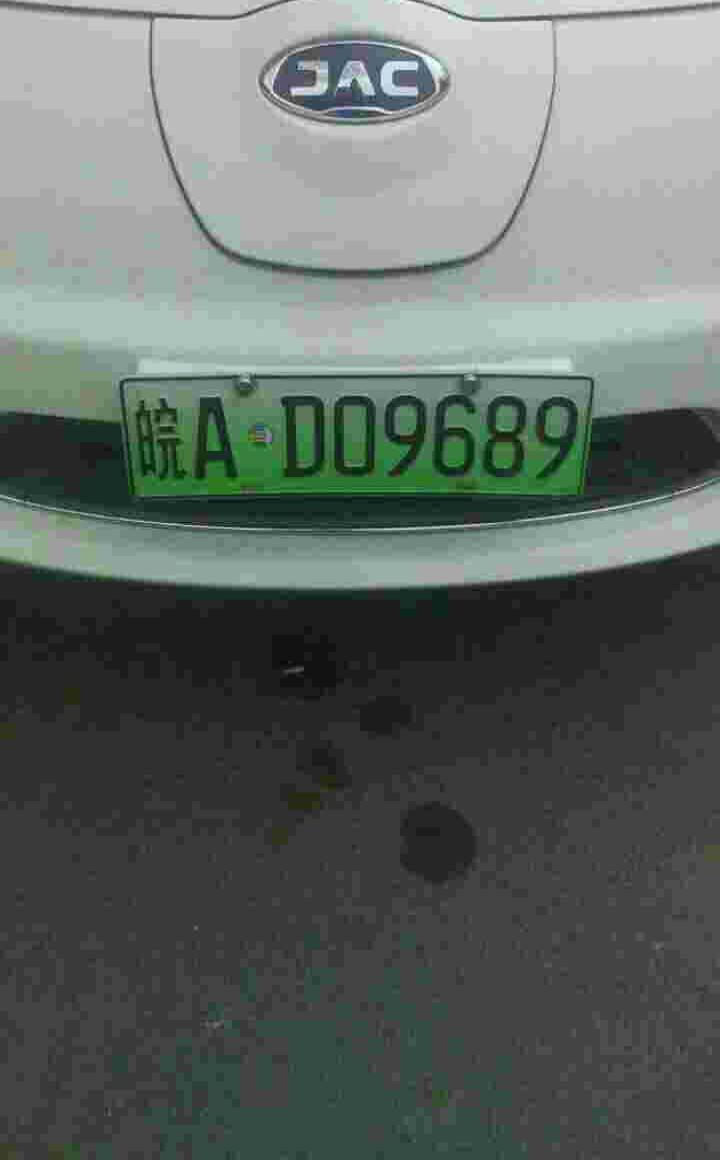car: (117, 382, 591, 512)
